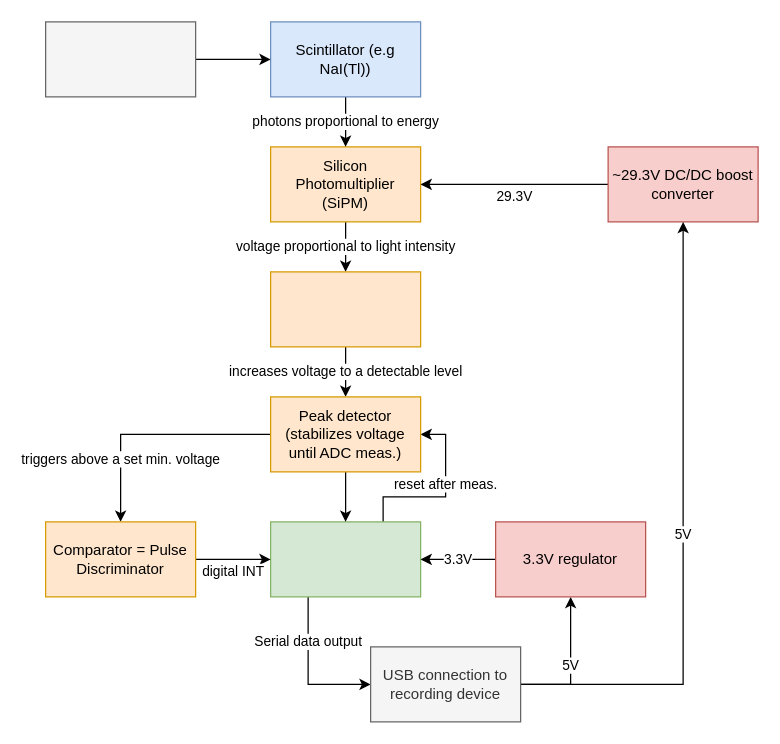
Some shapes in this 780 by 744 pixel diagram are drawn without their labels. Each missing label, with the box of its shape:
Gamma radiation: (44, 21, 196, 97)
Microcontroller - ADC triggers @ INT: (269, 521, 421, 597)
Non-inverting operational amplifier: (269, 271, 421, 347)
